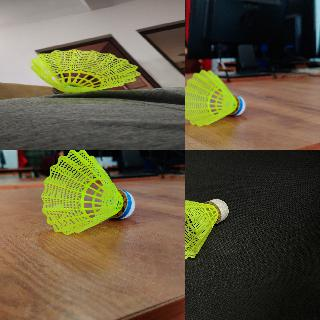shuttlecock: (42, 150, 135, 234), (29, 49, 140, 94), (185, 67, 244, 127), (185, 195, 229, 260)
